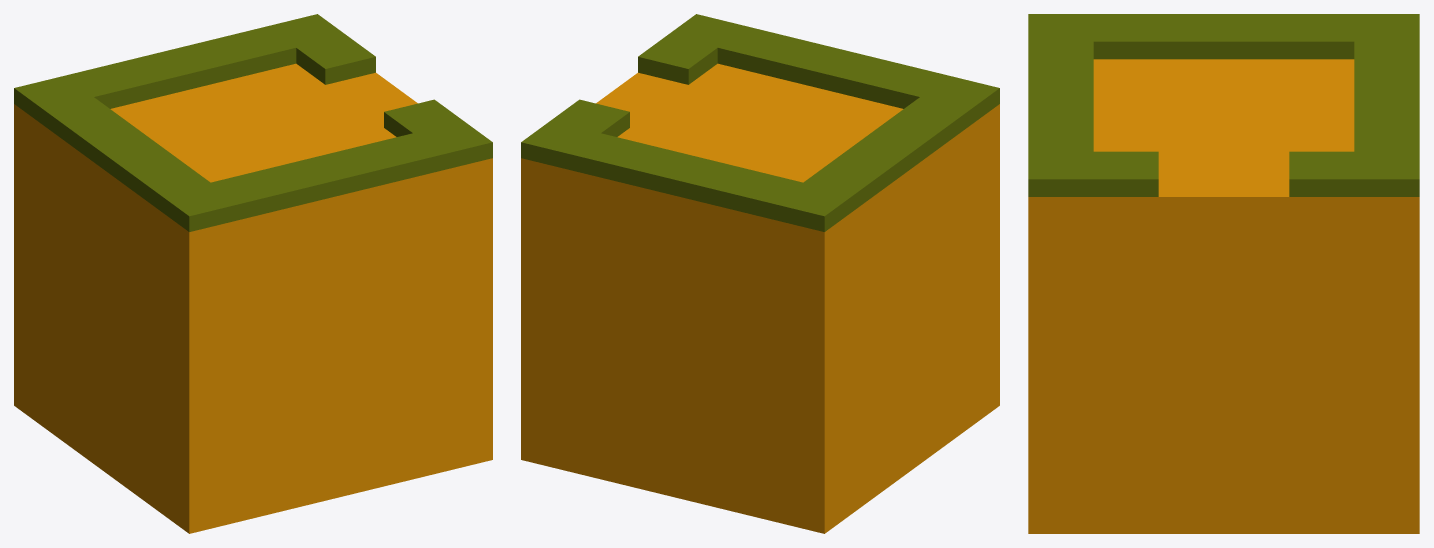
File: FarmStartCube.fbx
The picture shows the model from 3 angles, left to right: view 1: azimuth 30°, elevation 25°; view 2: azimuth 150°, elevation 25°; view 3: azimuth 270°, elevation 25°; orthographic projection. The views are drawn at different scales.
Parts seen in each view (by area): view 1: FarmStartCube; view 2: FarmStartCube; view 3: FarmStartCube.
Boxes of the visible parts, box(x1,y1,x2,y2) form: FarmStartCube: box(14, 14, 492, 533); FarmStartCube: box(521, 14, 999, 533); FarmStartCube: box(1028, 14, 1419, 533).
Bounding box in the file's own units: 1 × 1 × 1.
